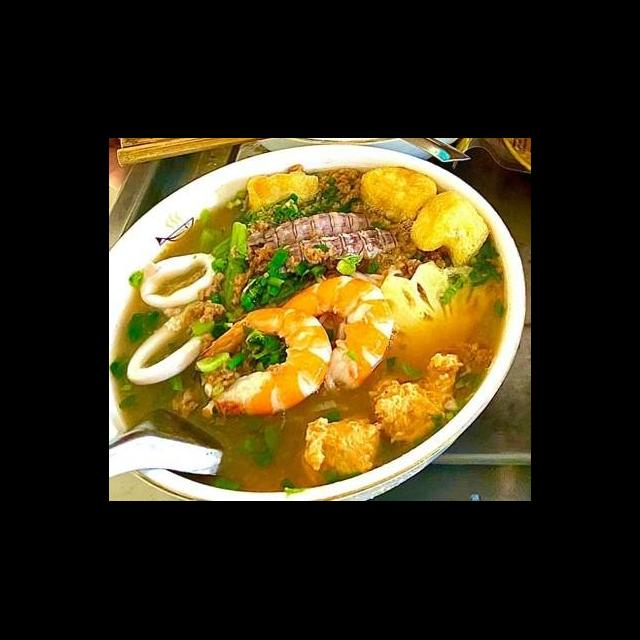dau hu: (405, 186, 490, 272), (355, 162, 440, 230), (241, 158, 321, 216)
muc: (124, 302, 221, 388), (135, 250, 223, 310)
tom: (192, 306, 336, 422), (274, 271, 397, 398)
tom tit: (242, 222, 418, 288), (237, 208, 384, 260)
